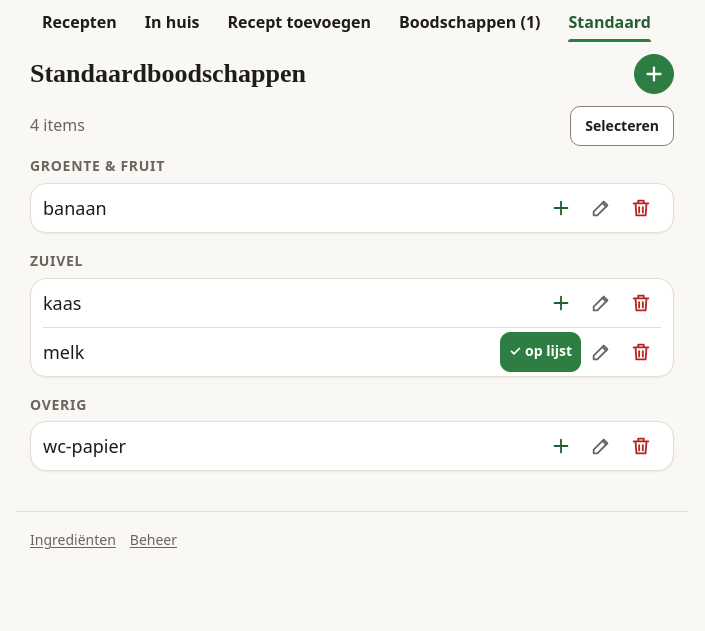
StandardItemsView › al op de boodschappenlijst › [+] wordt meteen "✓ op lijst"; nog een tik telt op, zonder nieuwe regel
What coordinates should you click on to do the following:
click the 1st button with class "add-one"
I would click on:
 (561, 208)
Its box is [541,188,581,228].
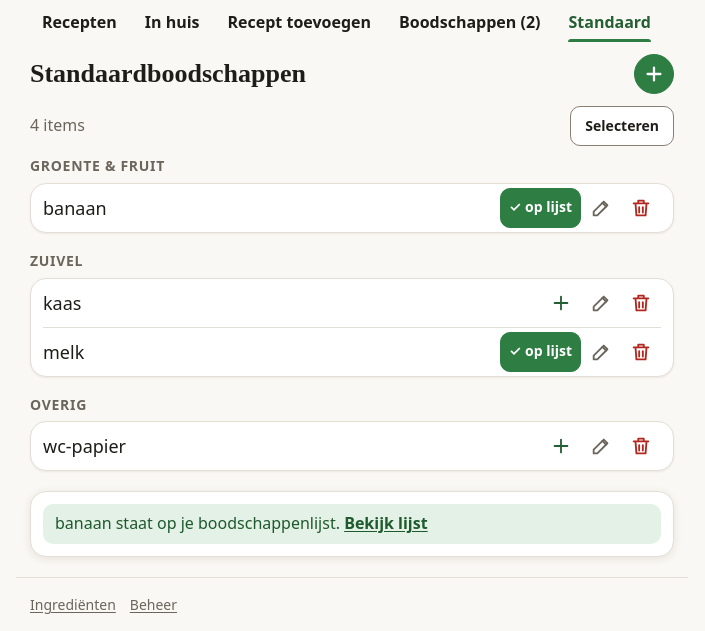
Expected: the 1st button with class "add-one" reads "✓ op lijst"
Expected: the message "banaan staat op je boodschappenlijst. Bekijk lijst" is shown, [43,504,661,544]
What coordinates should you click on to do the following:
click the 1st button with class "add-one"
I would click on:
 (540, 208)
Its box is [500,188,581,228].
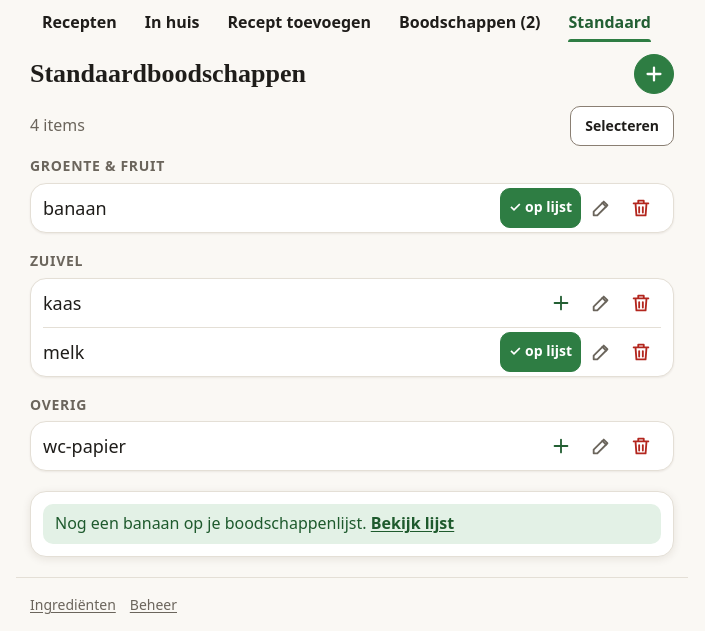
Expected: the message "Nog een banaan op je boodschappenlijst. Bekijk lijst" is shown, [43,504,661,544]
